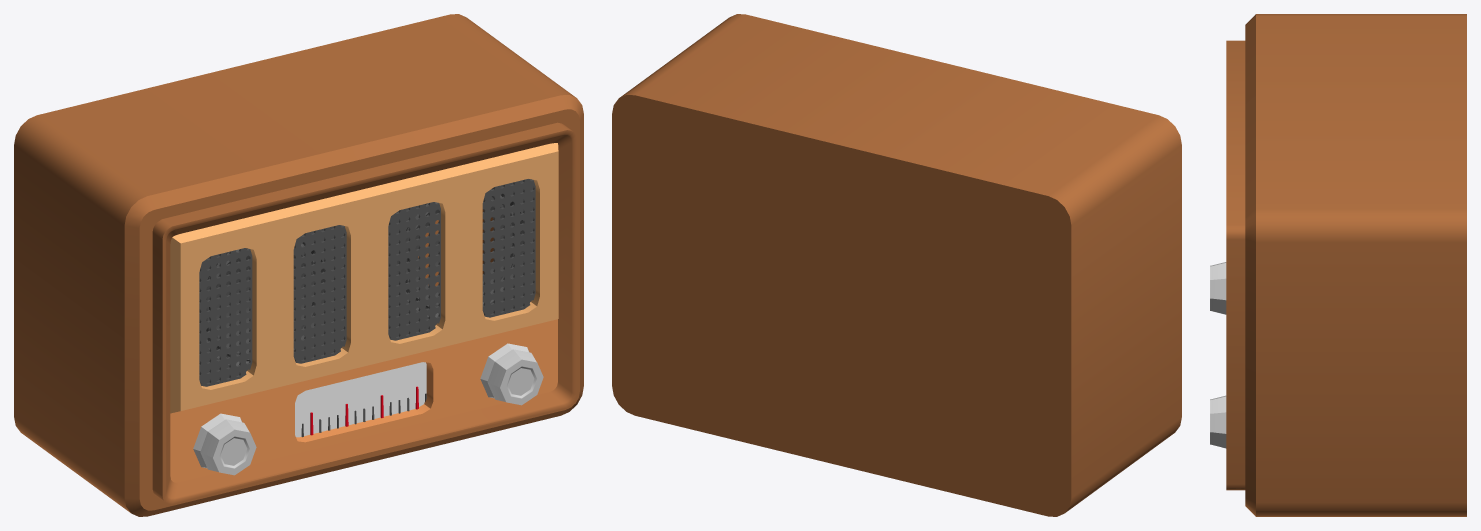
The model's file is RadioPlaceholder.fbx.
The picture shows the model from 3 angles, left to right: view 1: azimuth 30°, elevation 25°; view 2: azimuth 150°, elevation 25°; view 3: azimuth 270°, elevation 25°; orthographic projection. The views are drawn at different scales.
Parts seen in each view (by area): view 1: Box, Front_Upper, Front_Bottom, Holes_0, Holes_3, Holes_1, Holes_2, Plane, 2nd_Knob, 1st_Knob, Sound, Sound_1; view 2: Box; view 3: Box, 1st_Knob, 2nd_Knob.
Part boxes in pixels (box(x1,y1,x2,y2)): Box: box(14, 14, 583, 516); Front_Upper: box(170, 143, 558, 413); Front_Bottom: box(170, 319, 557, 482); Holes_0: box(199, 248, 252, 386); Holes_3: box(482, 179, 535, 317); Holes_1: box(293, 225, 346, 363); Holes_2: box(388, 202, 440, 340); Plane: box(295, 362, 426, 437); 2nd_Knob: box(480, 343, 543, 405); 1st_Knob: box(193, 413, 256, 475); Sound: box(199, 225, 343, 383); Sound_1: box(388, 179, 533, 337); Box: box(612, 14, 1181, 516); Box: box(1226, 14, 1466, 516); 1st_Knob: box(1210, 262, 1226, 314); 2nd_Knob: box(1210, 395, 1226, 448).
Size of the model in its own units: 4030 by 2687 by 2045.
